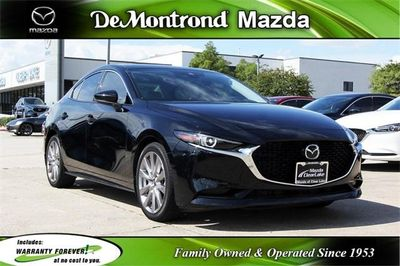Mazda3 Hatchback: (44, 62, 363, 222)
